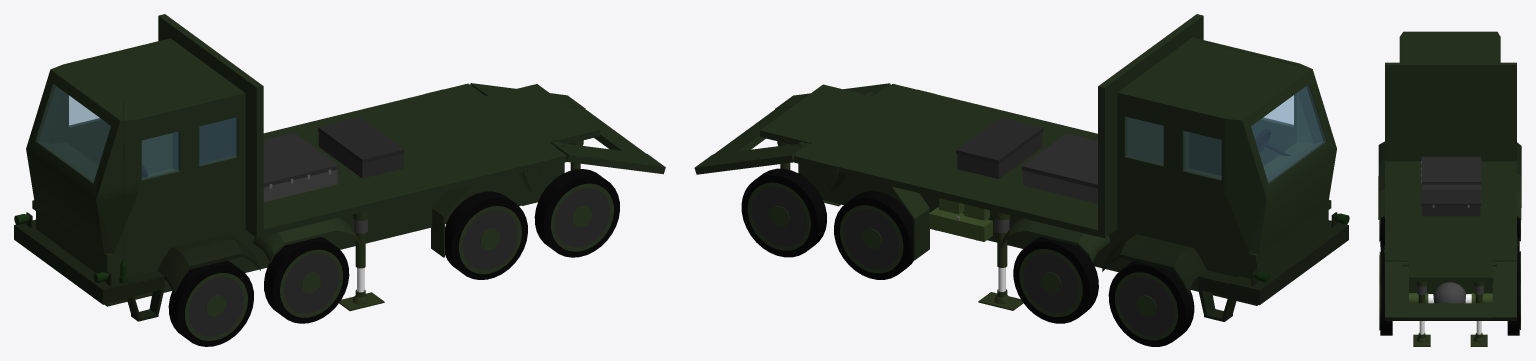
Rendered from mamaaaaa_yyyyy.fbx.
3 views of the same model, side by side, from view 1: azimuth 30°, elevation 25°; view 2: azimuth 150°, elevation 25°; view 3: azimuth 270°, elevation 25° (orthographic). The views are drawn at different scales.
Parts seen in each view (by area): view 1: авто; view 2: авто; view 3: авто.
Boxes of the visible parts, bbox=[...] form: авто: bbox=[14, 14, 665, 346]; авто: bbox=[694, 14, 1349, 346]; авто: bbox=[1378, 31, 1521, 346].
Bounding box in the file's own units: 7952 × 3481 × 2622.
